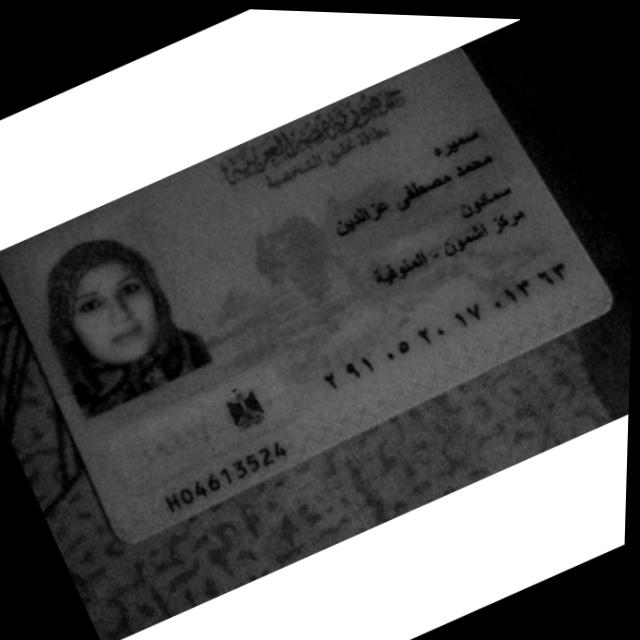front: (0, 45, 609, 540)
